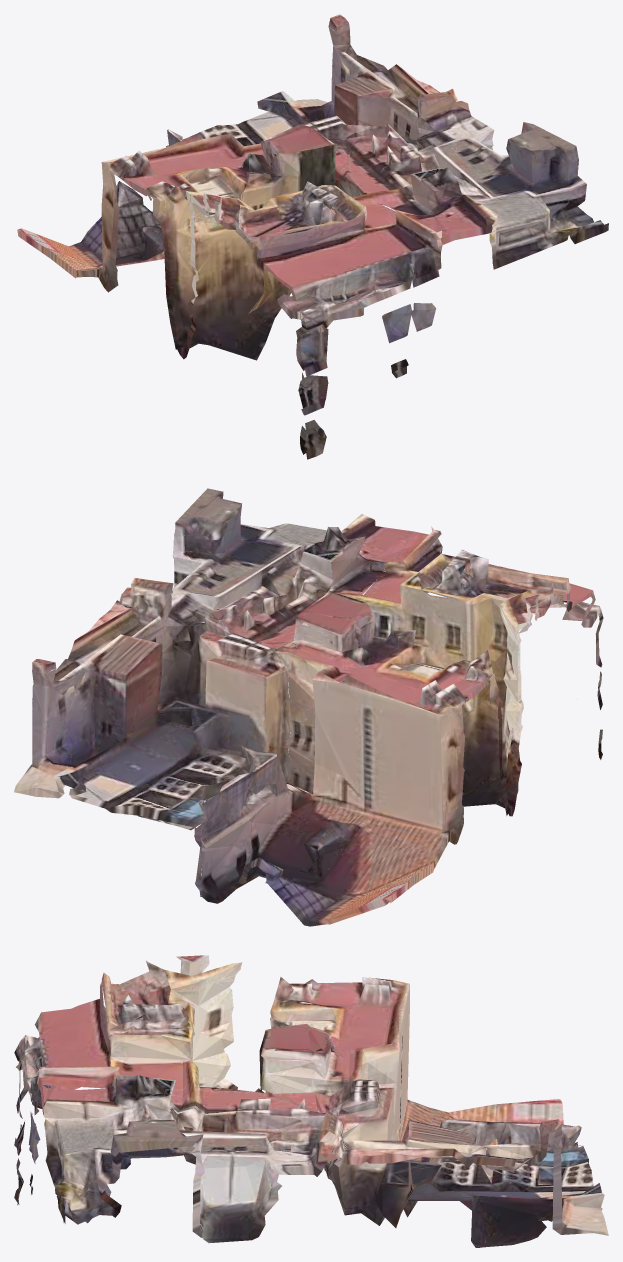
3 renders of one model, top to bottom at view 1: azimuth 30°, elevation 25°; view 2: azimuth 150°, elevation 25°; view 3: azimuth 270°, elevation 25°, orthographic. The views are drawn at different scales.
Visible parts, largest first — view 1: Mesh_0; view 2: Mesh_0; view 3: Mesh_0.
Boxes of the visible parts, x1,y1,x2,y2 form: Mesh_0: (17,14,608,459); Mesh_0: (14,488,603,926); Mesh_0: (14,955,608,1247).
Bounding box in the file's own units: 33.92 × 18.08 × 41.51.
Materials: 2 (2 with a texture image).
